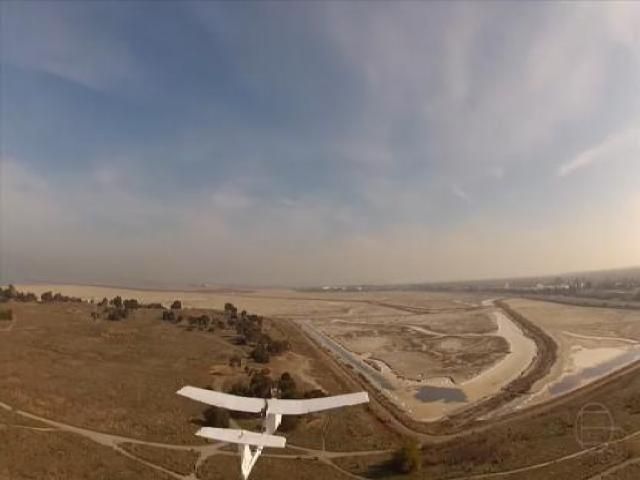uav: (171, 377, 372, 479)
